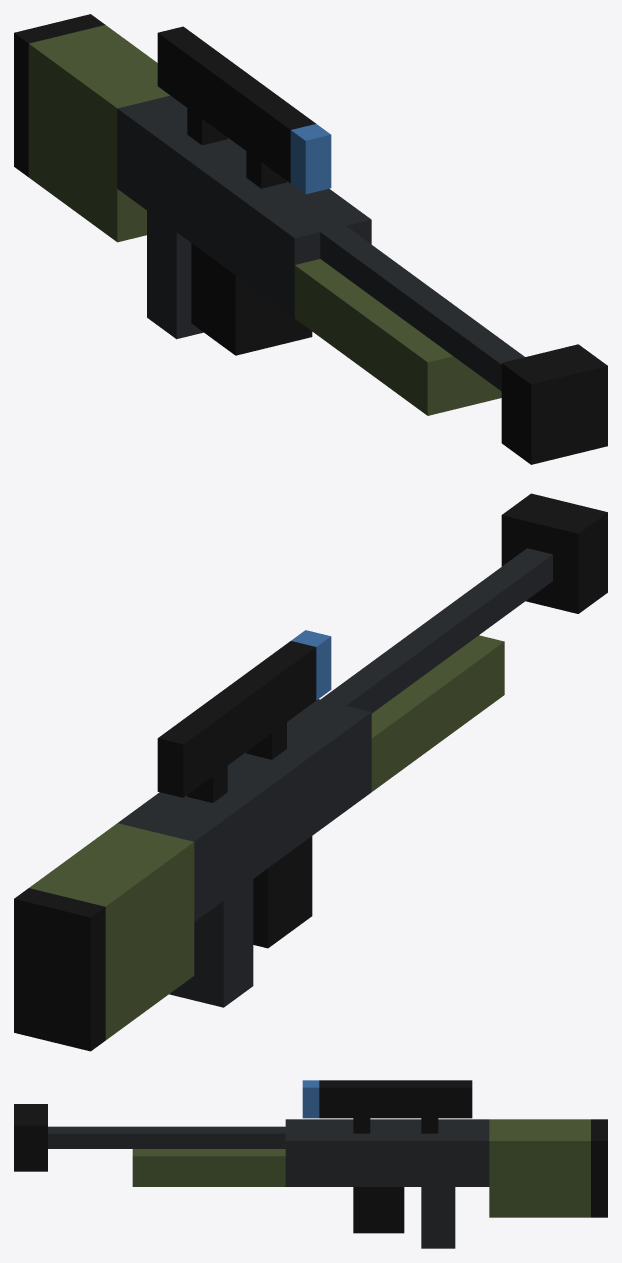
Rendered from vox_sniper.glb.
3 views of the same model, one above another, from view 1: azimuth 30°, elevation 25°; view 2: azimuth 150°, elevation 25°; view 3: azimuth 270°, elevation 25° (orthographic). The views are drawn at different scales.
Visible parts, largest first — view 1: vox_sniper; view 2: vox_sniper; view 3: vox_sniper.
Boxes of the visible parts, x1,y1,x2,y2 form: vox_sniper: (14,14,607,464); vox_sniper: (14,493,607,1051); vox_sniper: (14,1080,607,1248).
Bounding box in the file's own units: 0.06 × 0.2 × 0.7.
